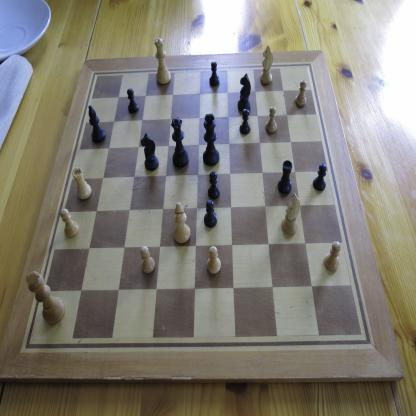black-bishop: (88, 104, 106, 144), (277, 159, 293, 195)
black-king: (203, 113, 220, 167)
black-knight: (140, 132, 159, 172), (237, 73, 252, 111)
black-pawn: (313, 163, 327, 192), (204, 199, 218, 228), (207, 170, 220, 200), (126, 88, 140, 114), (239, 108, 251, 136), (209, 60, 220, 87)
black-queen: (171, 116, 189, 168)
white-bishop: (173, 202, 191, 244)
white-king: (26, 270, 65, 325)
white-knight: (280, 192, 300, 235), (260, 45, 274, 85)
white-pawn: (60, 208, 79, 239), (323, 240, 341, 272), (206, 245, 222, 275), (140, 245, 156, 274), (265, 106, 278, 133), (295, 79, 307, 107)
white-queen: (154, 37, 171, 85)
white-rook: (72, 166, 92, 201)
